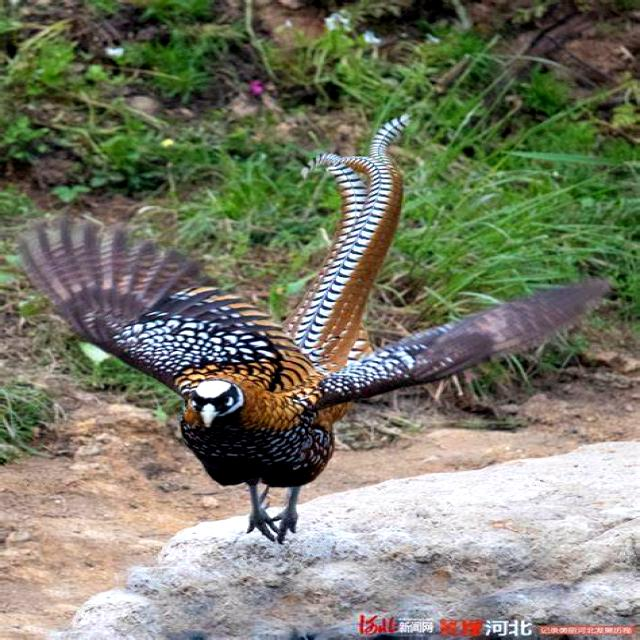Reeves-s Pheasant: (284, 114, 417, 371)
